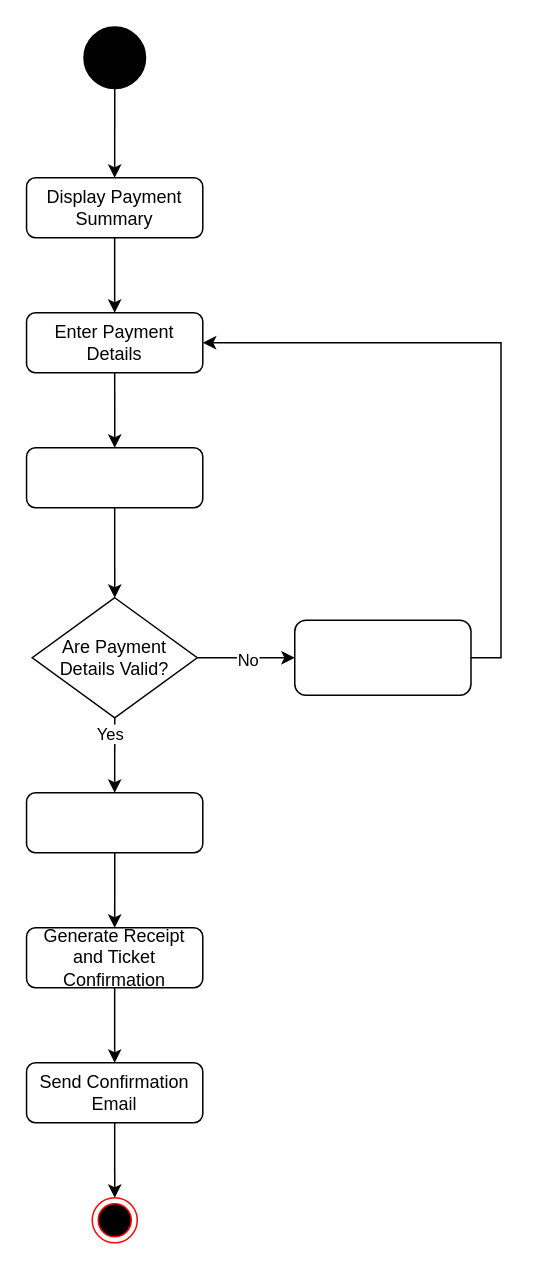
Image size: 540x1269. Some labels were removed from this diagram. The shapes that lost their labels are listed below. From the top down, each one's centre as x and y in pixels, then its label:
At pixel 114 477: "Validate Payment Details".
At pixel 382 657: "Display Payment Error and Prompt Retry".
At pixel 114 822: "Process Payment".
